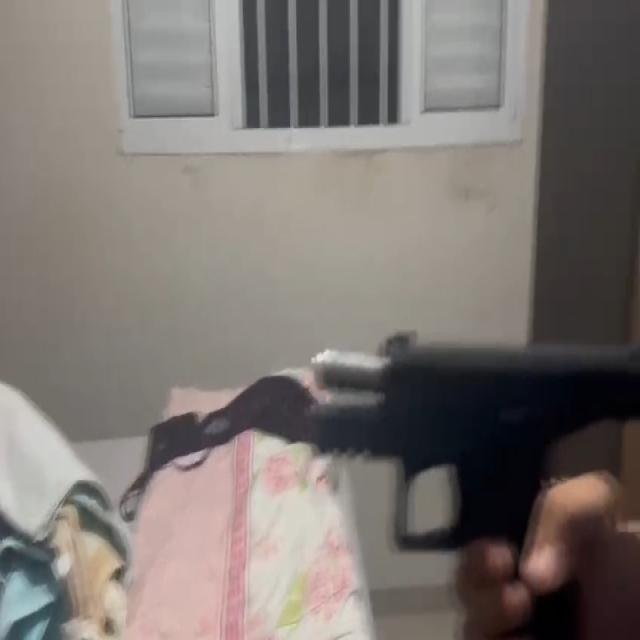gun: (304, 325, 640, 640)
